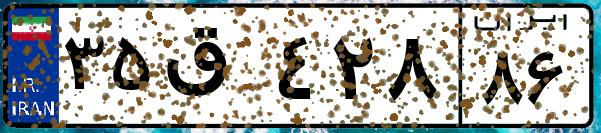2: (330, 28, 385, 110)
3: (57, 26, 110, 100)
4: (270, 28, 330, 110)
5: (110, 28, 158, 98)
6: (525, 38, 570, 115)
8: (385, 28, 445, 110), (475, 38, 525, 113)
ق: (158, 20, 270, 120)
